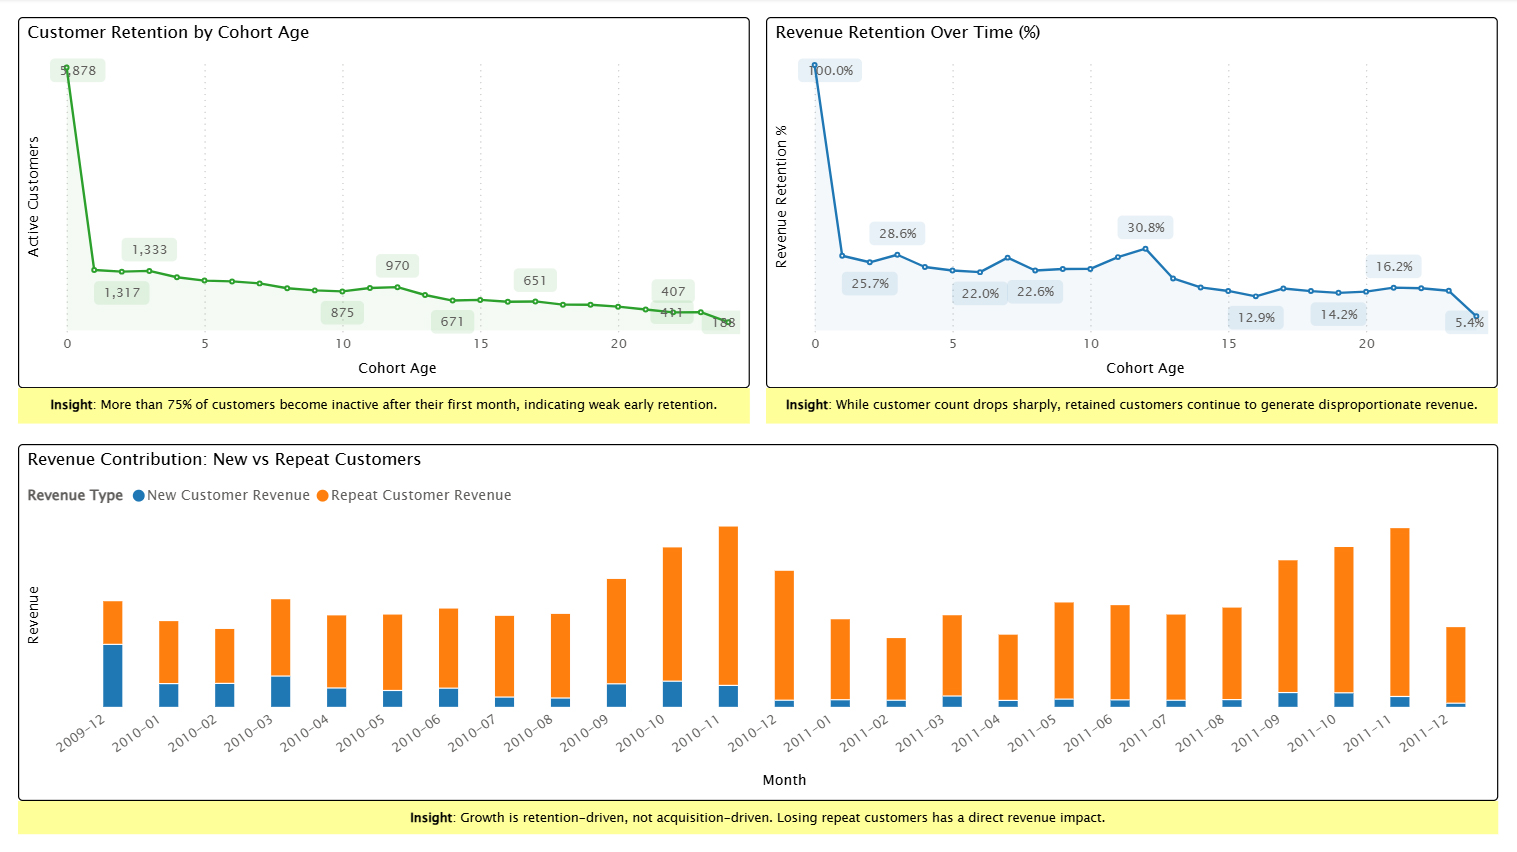

The dashboard page shown, as its layout file describes it:
{"tool":"powerbi","page":{"name":"Retention & Growth Quality","canvas":[1280,720],"ordinal":1},"visuals":[{"type":"lineChart","title":"Customer Retention by Cohort Age","fields":{"Category":["bi_customer_retention.cohort_age"],"Y":["Sum(bi_customer_retention.active_customers)"]},"box":[15.7,15.7,616.9,313.4],"z":0},{"type":"lineChart","title":"Revenue Retention Over Time (%)","fields":{"Category":["bi_revenue_retention.cohort_age"],"Y":["Sum(bi_revenue_retention.revenue_retention_pct)"]},"box":[646.4,15.7,616.9,313.4],"z":1000},{"type":"columnChart","title":"Revenue Contribution: New vs Repeat Customers","fields":{"Series":["bi_new_vs_repeat_revenue.revenue_type"],"Y":["Sum(bi_new_vs_repeat_revenue.total_revenue)"],"Category":["bi_new_vs_repeat_revenue.month"]},"box":[15.7,376.2,1247.6,300.6],"z":2000},{"type":"textbox","box":[15.7,329.1,616.9,30.5],"z":3000},{"type":"textbox","box":[15.7,676.8,1247.6,28.5],"z":4000},{"type":"textbox","box":[646.4,329.1,616.9,30.5],"z":5000}]}

Visuals, with their boxes in screenshot pixels (x1, y1, x2, y2), scaled from the page's 1280x720 canvas onto the 1517x852 screenshot:
"Customer Retention by Cohort Age" lineChart: detection(19, 19, 750, 389)
"Revenue Retention Over Time (%)" lineChart: detection(766, 19, 1497, 389)
"Revenue Contribution: New vs Repeat Customers" columnChart: detection(19, 445, 1497, 801)
textbox: detection(19, 389, 750, 426)
textbox: detection(19, 801, 1497, 835)
textbox: detection(766, 389, 1497, 426)
